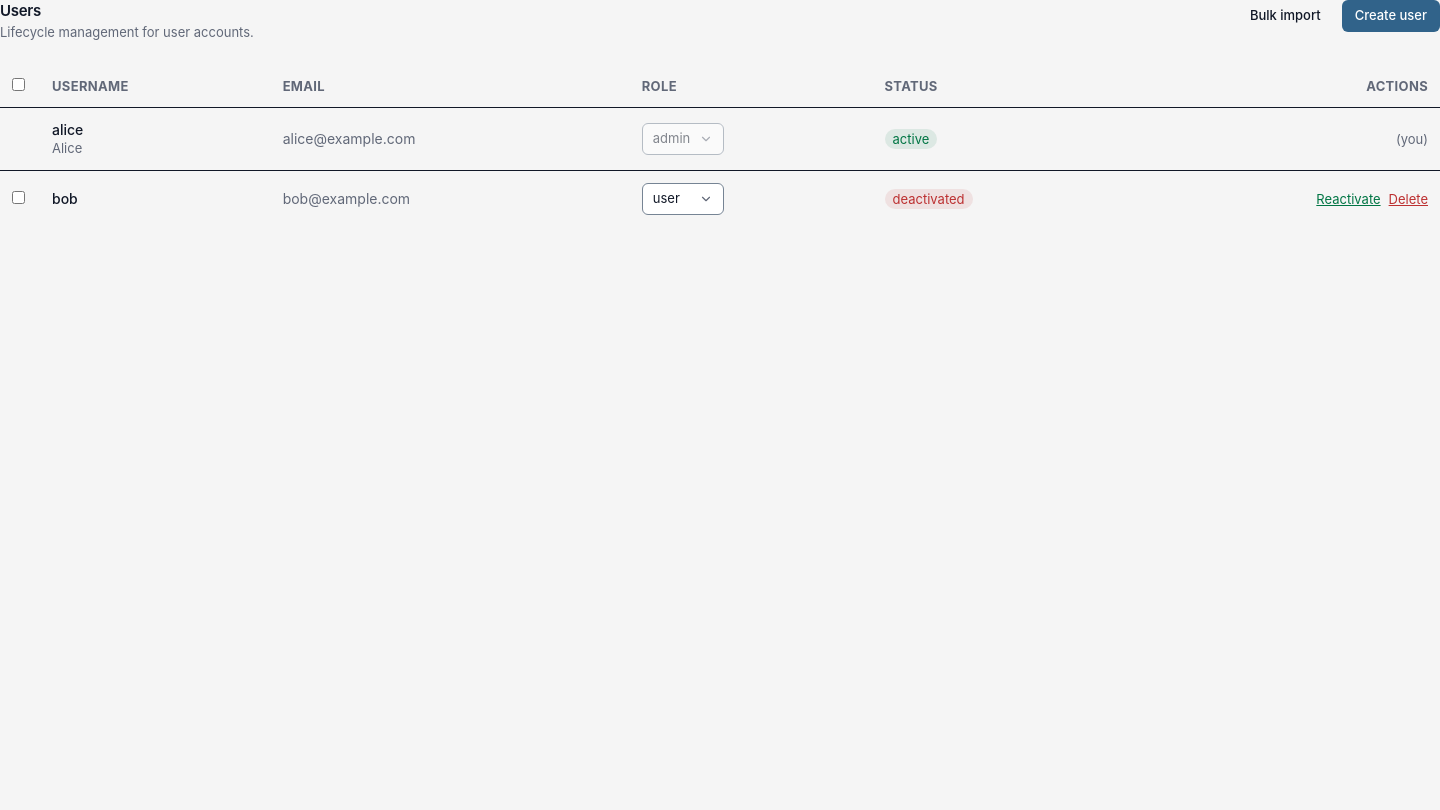
Test case: UsersAdminPage › opens the bulk import modal when the Bulk import button is clicked
Check: the text "alice" is shown, box [52,121,83,138]
Click the button with test id "users-bulk-import-btn" at (1285, 16), box [1237,0,1334,32]
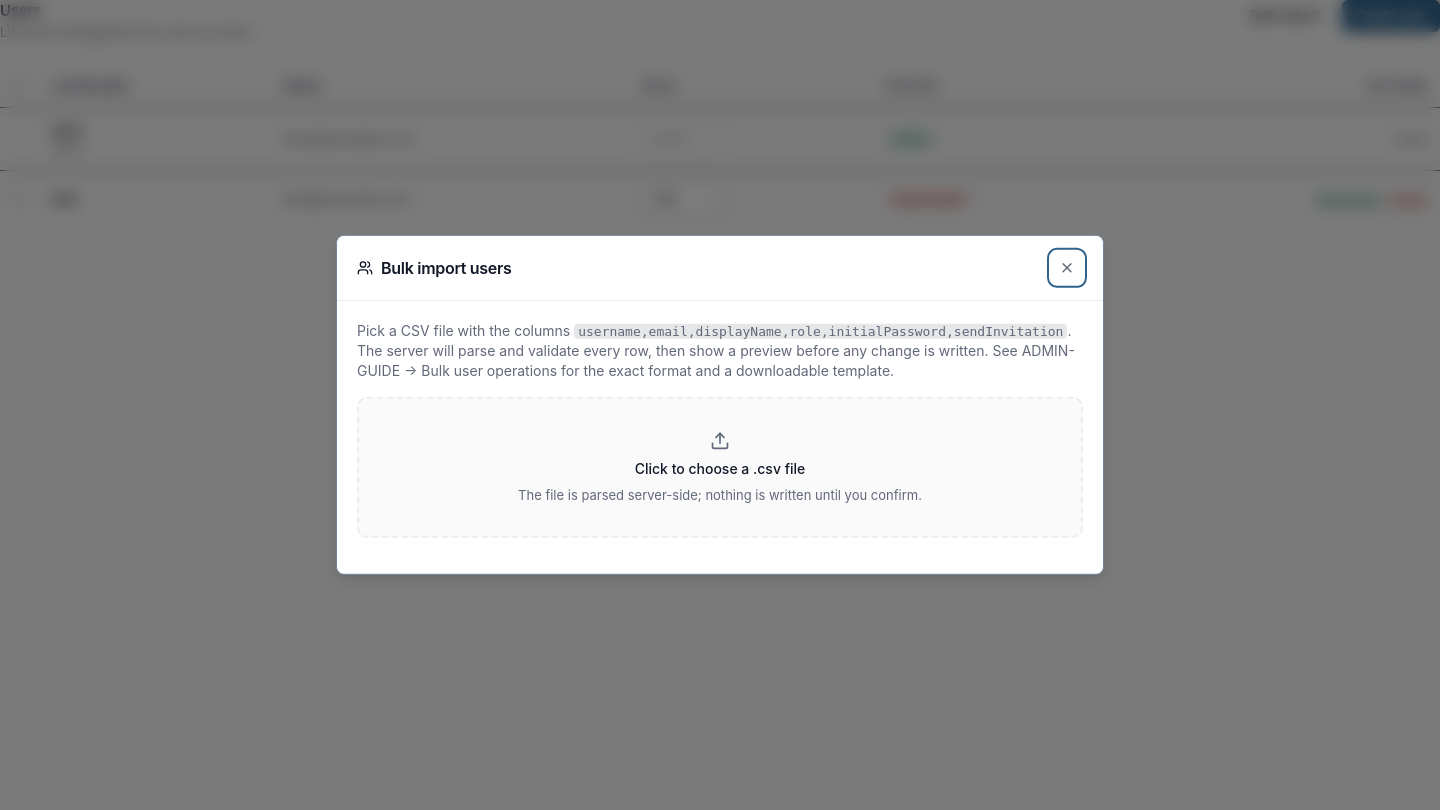
Check: the dialog with test id "bulk-import-modal" is shown, box [336,235,1104,575]
